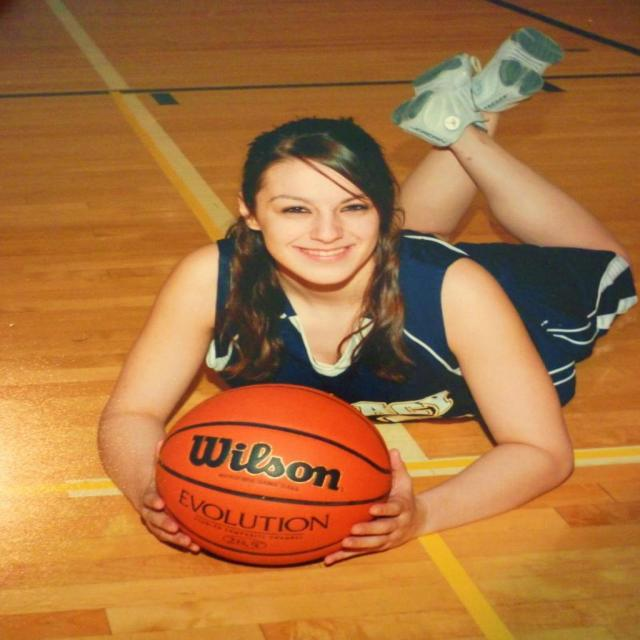Face: (245, 145, 377, 298)
